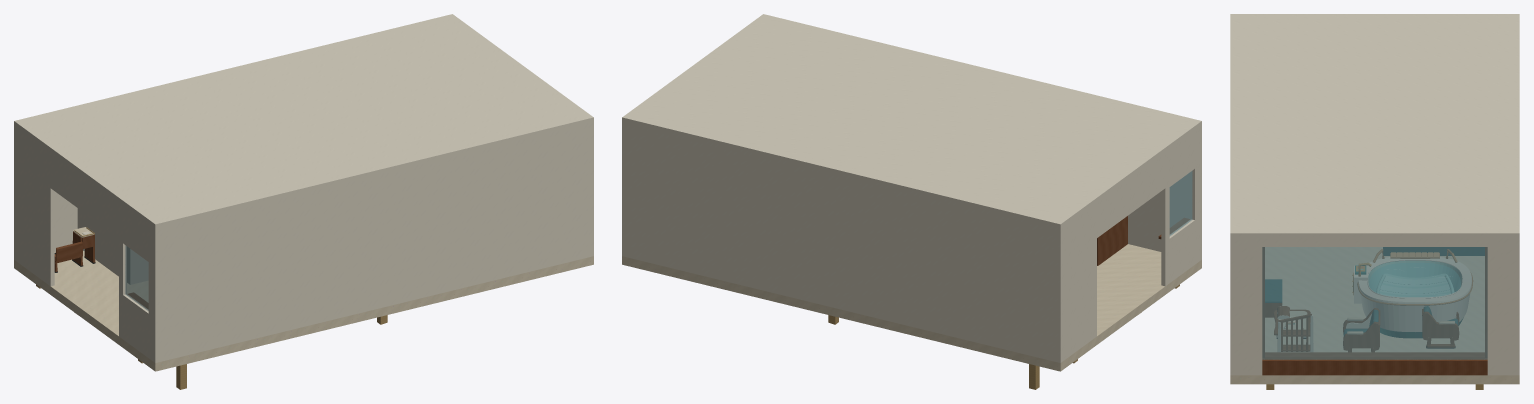
File: QuietGroveBank_433_r001.glb
The picture shows the model from 3 angles, left to right: view 1: azimuth 30°, elevation 25°; view 2: azimuth 150°, elevation 25°; view 3: azimuth 270°, elevation 25°; orthographic projection. The views are drawn at different scales.
Parts seen in each view (by area): view 1: QG433_Ceiling, QG433_NorthSide, QG433_RoomFloor, QG433_EntryShoulderSouth, QG433_EntryHeader, QG433_StreetWindowLower, QG433_WashEntrySide, QG433_SouthSide, QG433_StreetWindowUpper, QG433_ScreenedStreetGlass; view 2: QG433_Ceiling, QG433_SouthSide, QG433_RoomFloor, QG433_EntryShoulderSouth, QG433_NorthSide, QG433_EntryHeader, QG433_StreetWindowLower, QG433_StreetWindowUpper, QG433_ScreenedStreetGlass, QG433_EntryPrivacyDogleg; view 3: QG433_Ceiling, QGB433_PrivateCourtGlass, QG433_RoomFloor, QG433_QG433_ReservedRestSupport_01__Hollow continuous basin , QGB433_CourtNorthPier, QGB433_CourtSouthPier, QGB433_CourtSill, QGB433_CourtHeader, QGB433_DeepReveal_0.34, QG433_QG433_ReservedRestSupport_01__Contoured broad immersed, QG433_PositiveWetPrivacyBlade, QG433_NorthSide (+6 smaller).
Part boxes in pixels (<box>): QG433_Ceiling: <box>14,14,593,229</box>; QG433_NorthSide: <box>153,123,593,362</box>; QG433_RoomFloor: <box>14,250,593,371</box>; QG433_EntryShoulderSouth: <box>16,128,54,286</box>; QG433_EntryHeader: <box>49,153,119,238</box>; QG433_StreetWindowLower: <box>119,292,152,360</box>; QG433_WashEntrySide: <box>77,208,133,284</box>; QG433_SouthSide: <box>14,127,77,260</box>; QG433_StreetWindowUpper: <box>119,204,152,264</box>; QG433_ScreenedStreetGlass: <box>125,245,148,310</box>; QG433_Ceiling: <box>622,14,1201,229</box>; QG433_SouthSide: <box>622,123,1062,362</box>; QG433_RoomFloor: <box>622,244,1201,371</box>; QG433_EntryShoulderSouth: <box>1063,203,1096,360</box>; QG433_NorthSide: <box>1128,127,1201,260</box>; QG433_EntryHeader: <box>1096,154,1165,238</box>; QG433_StreetWindowLower: <box>1161,217,1199,286</box>; QG433_StreetWindowUpper: <box>1163,128,1199,190</box>; QG433_ScreenedStreetGlass: <box>1169,171,1192,235</box>; QG433_EntryPrivacyDogleg: <box>1097,216,1127,265</box>; QG433_Ceiling: <box>1230,14,1519,238</box>; QGB433_PrivateCourtGlass: <box>1262,247,1487,359</box>; QG433_RoomFloor: <box>1230,247,1519,384</box>; QG433_QG433_ReservedRestSupport_01__Hollow continuous basin : <box>1358,257,1471,337</box>; QGB433_CourtNorthPier: <box>1487,239,1519,375</box>; QGB433_CourtSouthPier: <box>1230,239,1262,375</box>; QGB433_CourtSill: <box>1262,358,1487,375</box>; QGB433_CourtHeader: <box>1262,239,1487,246</box>; QGB433_DeepReveal_0.34: <box>1265,352,1484,357</box>; QG433_QG433_ReservedRestSupport_01__Contoured broad immersed: <box>1380,274,1450,296</box>; QG433_PositiveWetPrivacyBlade: <box>1383,247,1484,255</box>; QG433_NorthSide: <box>1230,239,1234,375</box>.
Size of the model in its own units: 12.9 by 5.31 by 7.2.
Materials: 67 (49 with a texture image).
